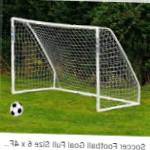goals: (10, 16, 143, 113)
